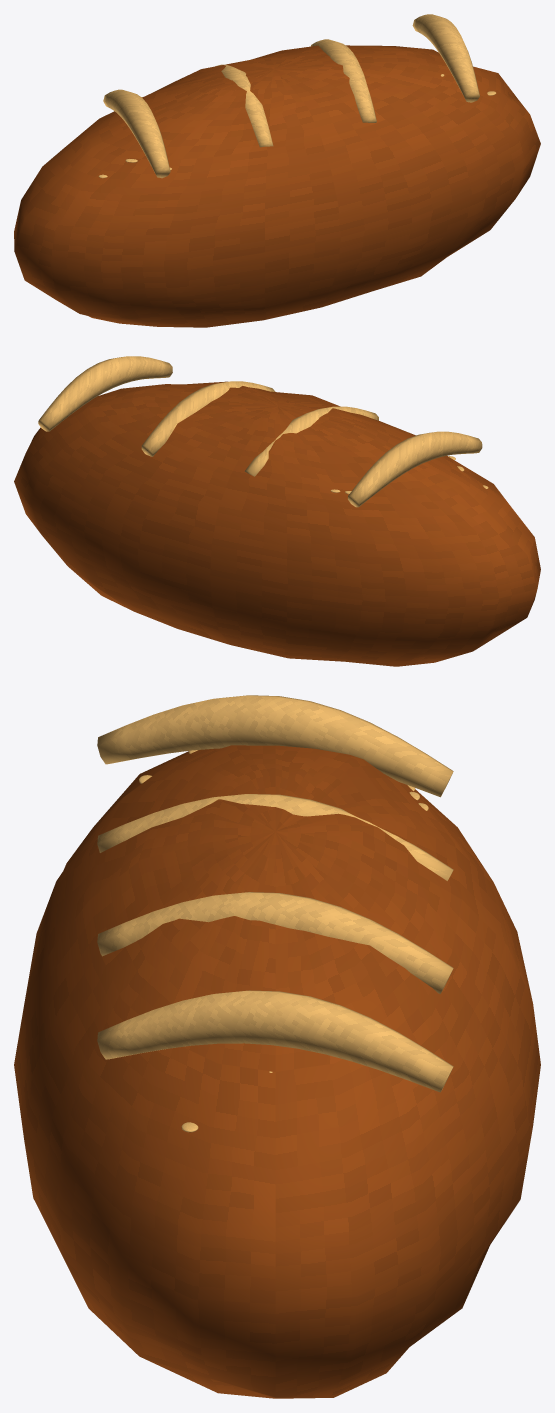
File: bread.fbx
3 views of the same model, one above another, from view 1: azimuth 30°, elevation 25°; view 2: azimuth 150°, elevation 25°; view 3: azimuth 270°, elevation 25° (orthographic). The views are drawn at different scales.
Visible parts, largest first — view 1: Hand-shaped loaf, Opened crust score, Opened crust score.003, Opened crust score.002, Opened crust score.001; view 2: Hand-shaped loaf, Opened crust score, Opened crust score.003, Opened crust score.002, Opened crust score.001; view 3: Hand-shaped loaf, Opened crust score.003, Opened crust score, Opened crust score.002, Opened crust score.001.
Boxes of the visible parts, box(x1,y1,x2,y2) form: Hand-shaped loaf: box(14, 45, 540, 327); Opened crust score: box(103, 89, 170, 178); Opened crust score.003: box(412, 14, 479, 102); Opened crust score.002: box(310, 39, 376, 122); Opened crust score.001: box(216, 64, 273, 147); Hand-shaped loaf: box(14, 381, 540, 666); Opened crust score: box(348, 431, 482, 507); Opened crust score.003: box(38, 356, 172, 431); Opened crust score.002: box(141, 381, 275, 456); Opened crust score.001: box(244, 406, 378, 476); Hand-shaped loaf: box(14, 745, 540, 1398); Opened crust score.003: box(97, 990, 453, 1092); Opened crust score: box(97, 695, 453, 797); Opened crust score.002: box(97, 892, 453, 993); Opened crust score.001: box(97, 794, 453, 880).
Bounding box in the file's own units: 188 × 76.05 × 86.
Materials: 2 (2 with a texture image).
